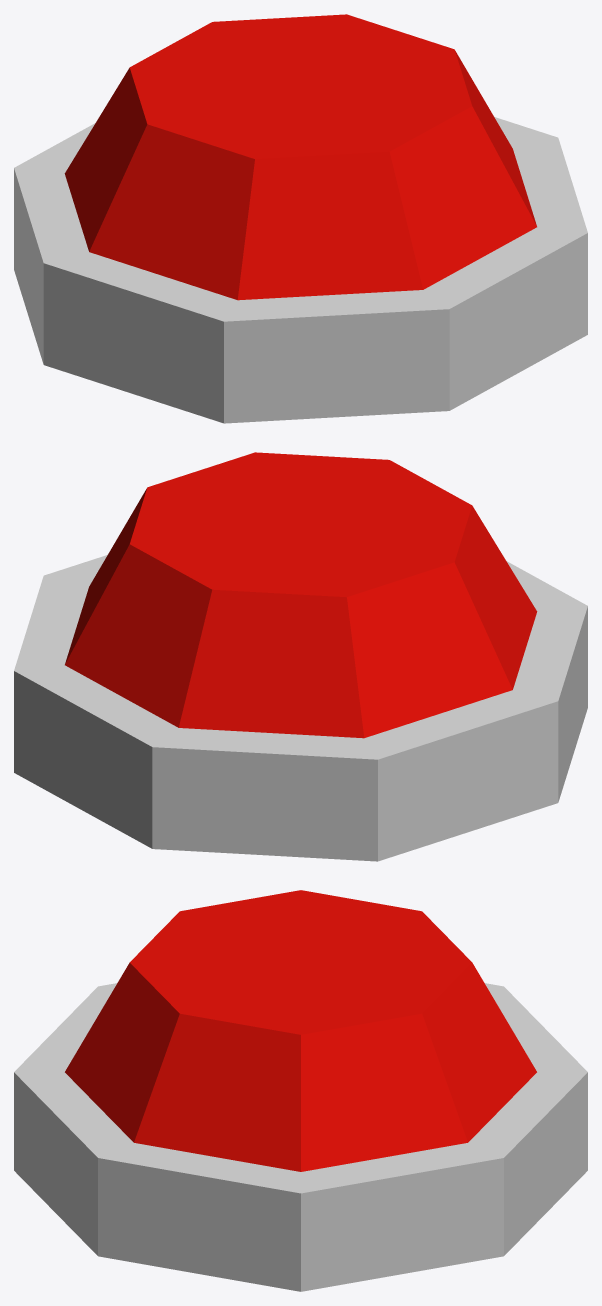
File: KluisLight.fbx
The picture shows the model from 3 angles, top to bottom: view 1: azimuth 30°, elevation 25°; view 2: azimuth 150°, elevation 25°; view 3: azimuth 270°, elevation 25°; orthographic projection. The views are drawn at different scales.
Visible parts, largest first — view 1: Circle; view 2: Circle; view 3: Circle.
Boxes of the visible parts, left/top/right/bottom form: Circle: left=14, top=14, right=587, bottom=423; Circle: left=14, top=452, right=587, bottom=861; Circle: left=14, top=890, right=587, bottom=1291.
Bounding box in the file's own units: 20 × 8 × 20.
